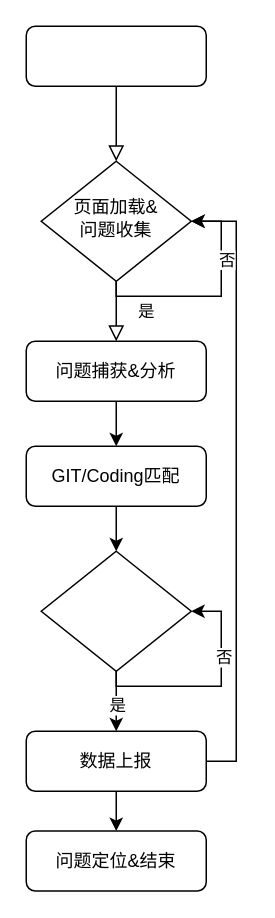
The diagram is 275 pixels wide and 918 high, and some of its shapes have lost their labels. Each missing label, with the centre of its shape:
启动APP: [115,55]
行云需求匹配: [115,610]
